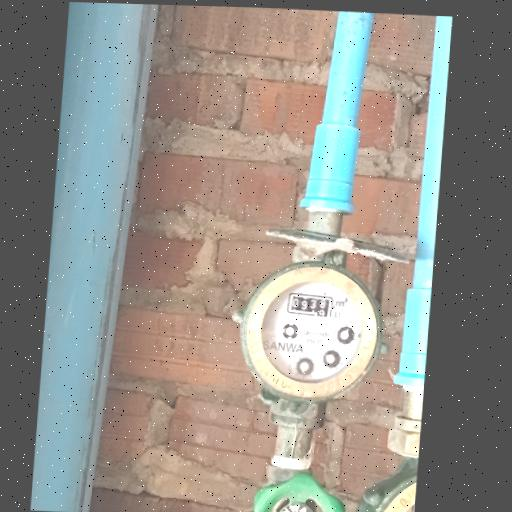0: (291, 296, 301, 311)
3: (309, 298, 319, 312)
8: (317, 298, 329, 317)
9: (300, 297, 310, 312)
border_water_meter_number: (286, 292, 336, 318)
